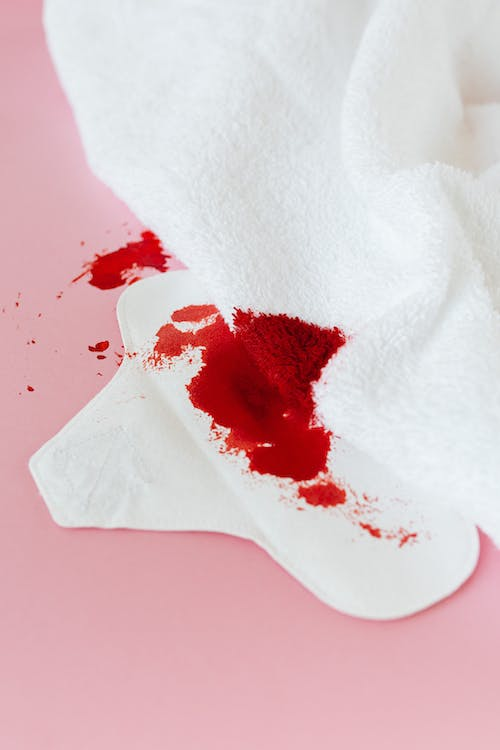blood: (127, 301, 434, 552), (0, 228, 171, 396)
